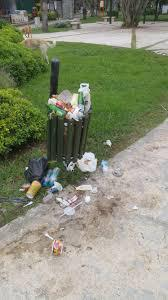Container: (49, 113, 90, 165)
Garbage: (26, 155, 65, 205), (41, 85, 96, 115), (78, 153, 117, 193)
